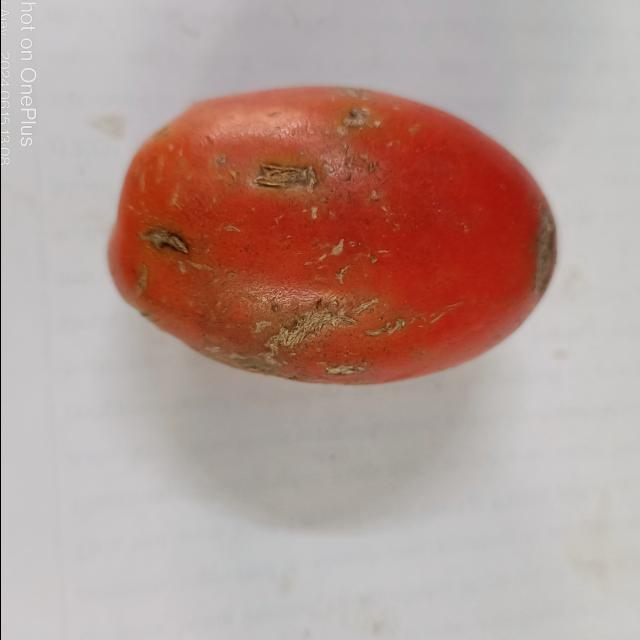Bacterial_Spot: (258, 278, 398, 364), (251, 162, 317, 193), (143, 225, 194, 258), (345, 107, 371, 137), (326, 232, 328, 236)
